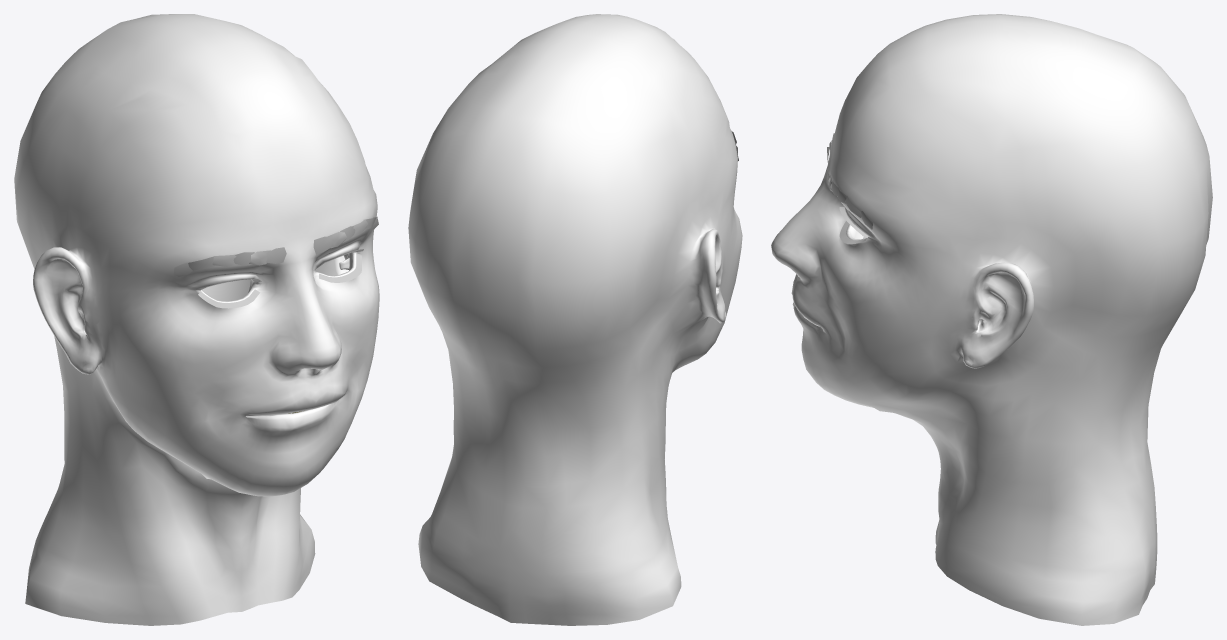
The model's file is jawRight.obj.
3 views of the same model, side by side, from view 1: azimuth 30°, elevation 25°; view 2: azimuth 150°, elevation 25°; view 3: azimuth 270°, elevation 25° (orthographic). The views are drawn at different scales.
Parts seen in each view (by area): view 1: FaceMesh_Plane.003; view 2: FaceMesh_Plane.003; view 3: FaceMesh_Plane.003.
Part boxes in pixels (x1,y1,x2,y2): FaceMesh_Plane.003: (14, 14, 379, 625); FaceMesh_Plane.003: (408, 14, 742, 625); FaceMesh_Plane.003: (771, 14, 1212, 625).
Bounding box in the file's own units: 1.54 × 2.71 × 1.94.
5 materials, 1 textured.
